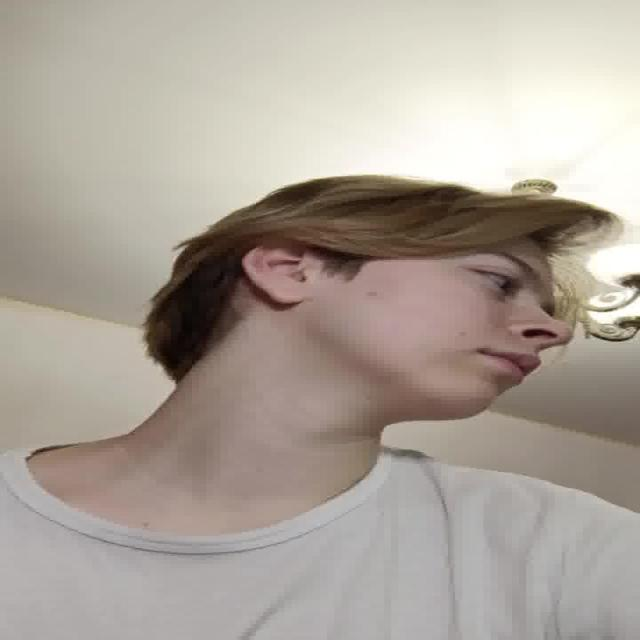earlobe: (244, 243, 308, 306)
